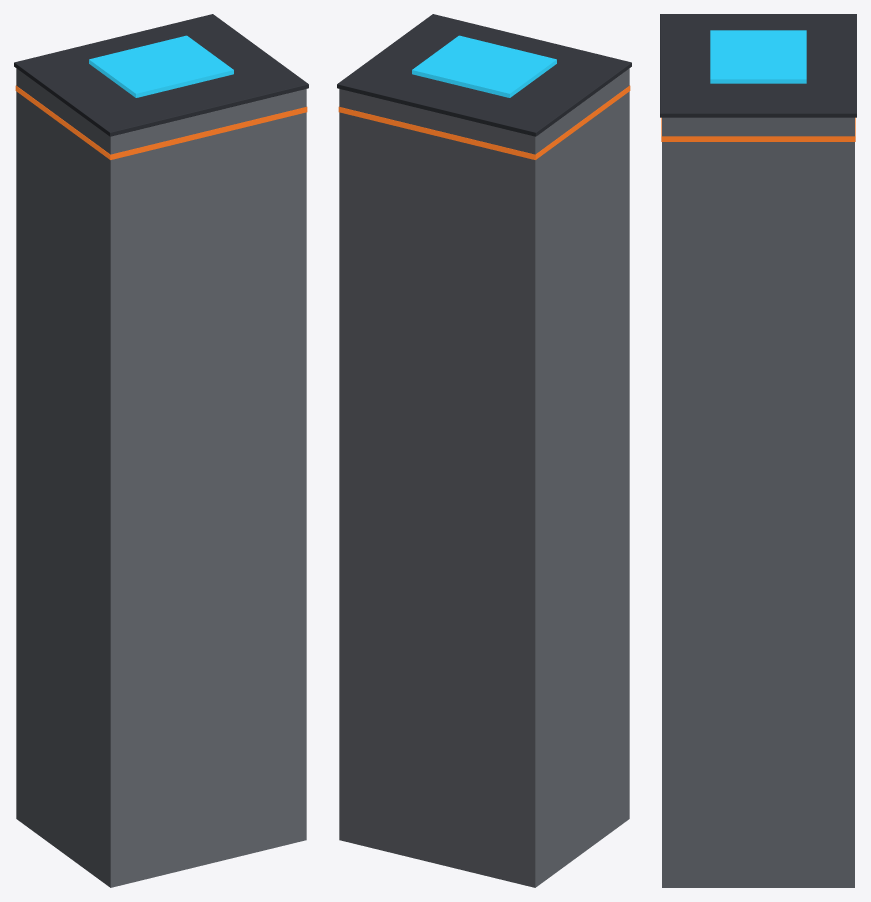
File: building_far_c.glb
3 renders of one model, left to right at view 1: azimuth 30°, elevation 25°; view 2: azimuth 150°, elevation 25°; view 3: azimuth 270°, elevation 25°, orthographic. The views are drawn at different scales.
Visible parts, largest first — view 1: BuildingFarC; view 2: BuildingFarC; view 3: BuildingFarC.
Part boxes in pixels (x1,y1,x2,y2): BuildingFarC: (14, 14, 308, 887); BuildingFarC: (337, 14, 631, 887); BuildingFarC: (660, 14, 856, 887).
Size of the model in its own units: 19.5 by 71.6 by 16.3.
